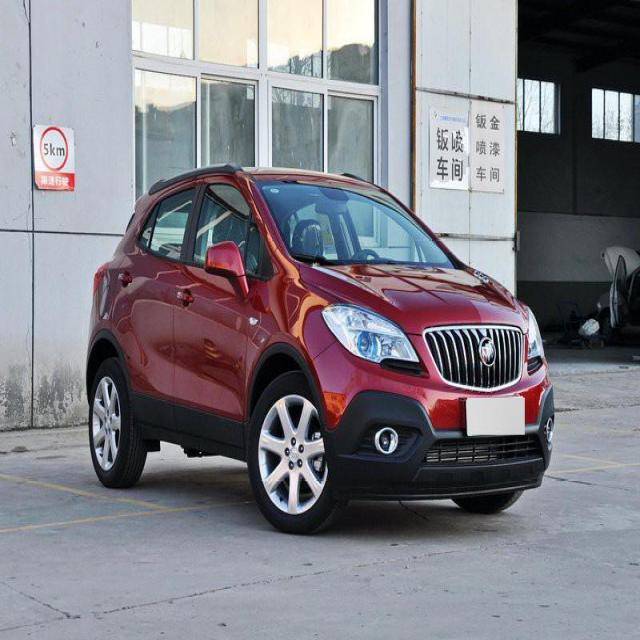back_right_side_light: (91, 258, 109, 294)
door: (130, 178, 202, 437)
front_bumper: (321, 380, 555, 493)
front_glass: (258, 178, 454, 272)
front_left_side_light: (524, 305, 547, 374)
front_right_side_door: (171, 172, 254, 456)
front_right_side_light: (319, 298, 428, 381)
front_right_side_mirror: (204, 238, 247, 296)
wheel: (253, 372, 337, 532), (89, 358, 146, 487)
